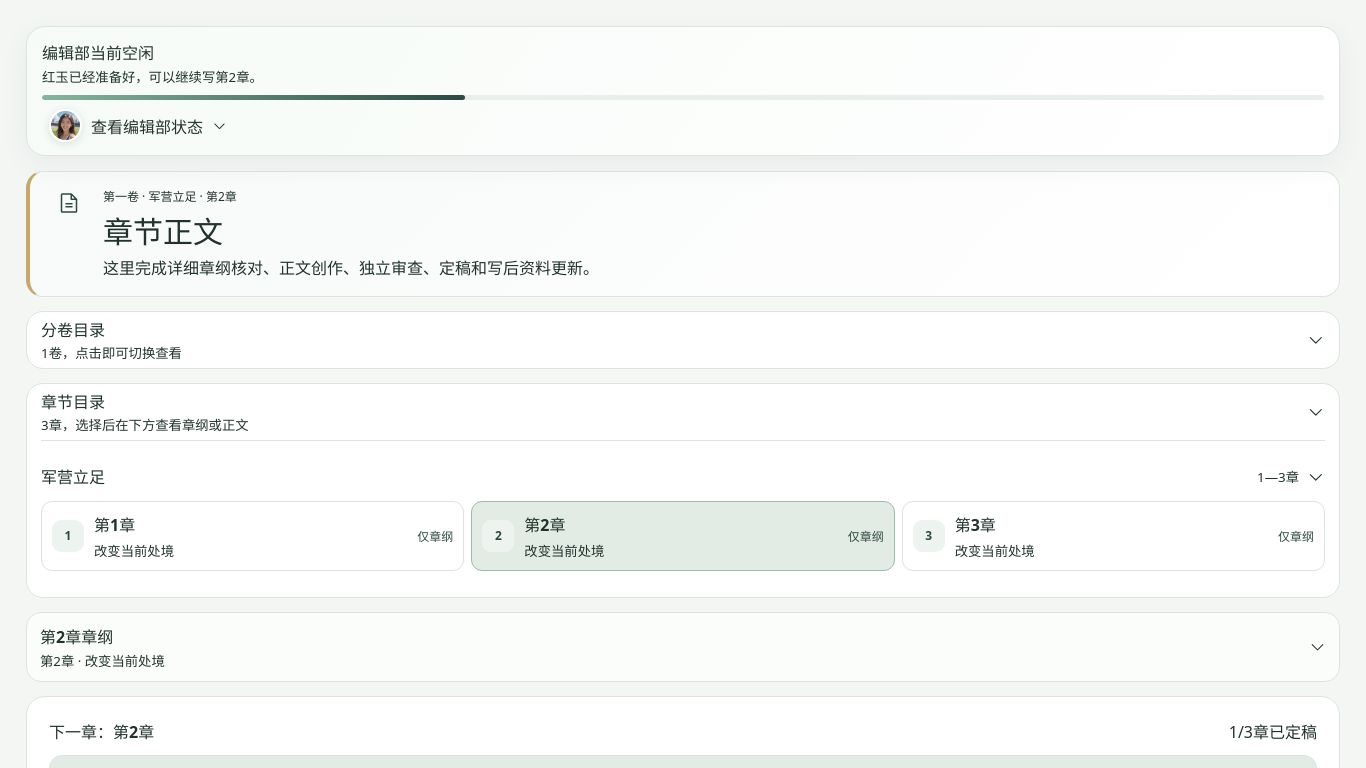
Test case: V7卷链章创作工作台 › 章页以正文为主，只把本章章纲放在折叠参考中
Expected: the text "下一章：第2章" is shown, [49,719,154,743]
Expected: the text "章节正文" is shown, [103,216,223,249]
Click the text "第2章章纲" at x=77, y=637, box [40,626,113,648]
(page scrolled)
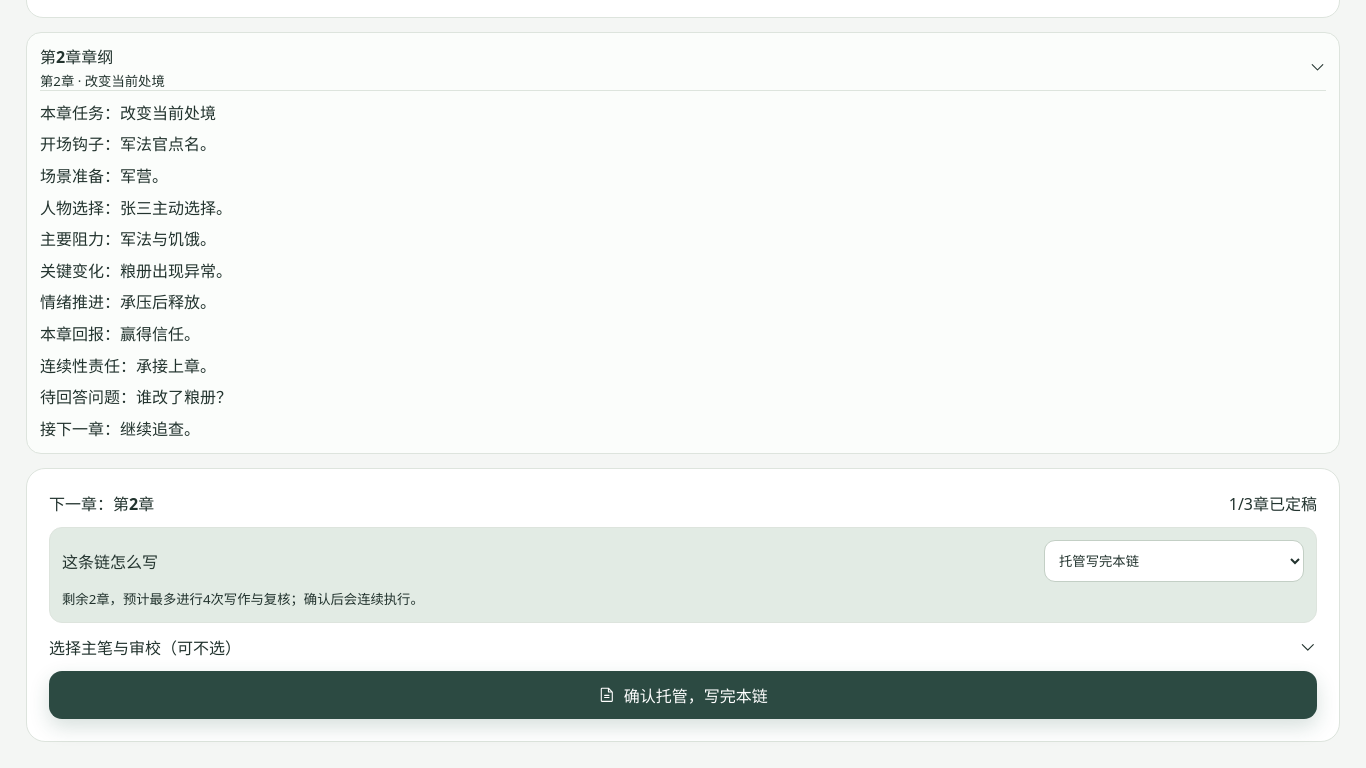
Now the text "场景准备：" is shown, box [40,165,120,187]
Now the text "情绪推进：" is shown, box [40,291,120,313]
Now the text "连续性责任：" is shown, box [40,354,136,376]
